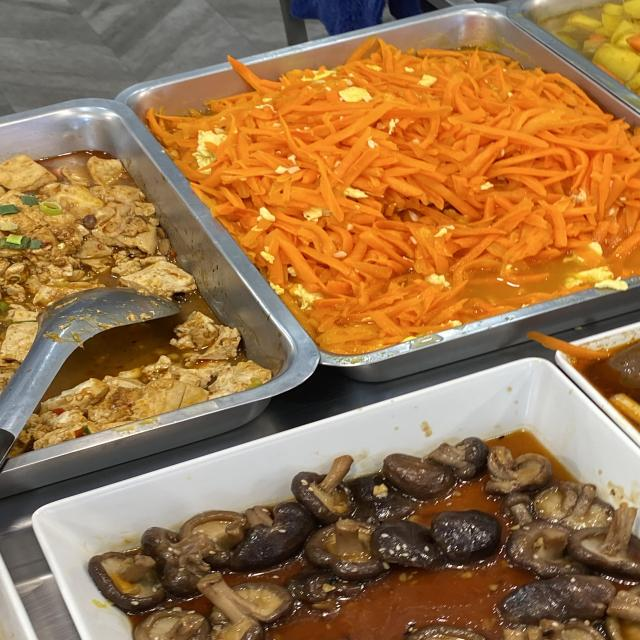Scrambled eggs with carrots: (280, 101, 572, 259)
